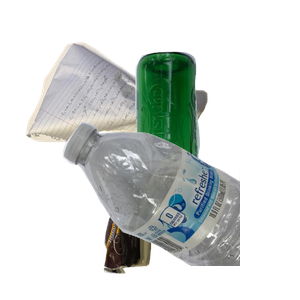glass: (129, 49, 300, 229)
paper: (23, 40, 223, 180)
plastic: (60, 120, 300, 300)
trash: (101, 157, 270, 300)
